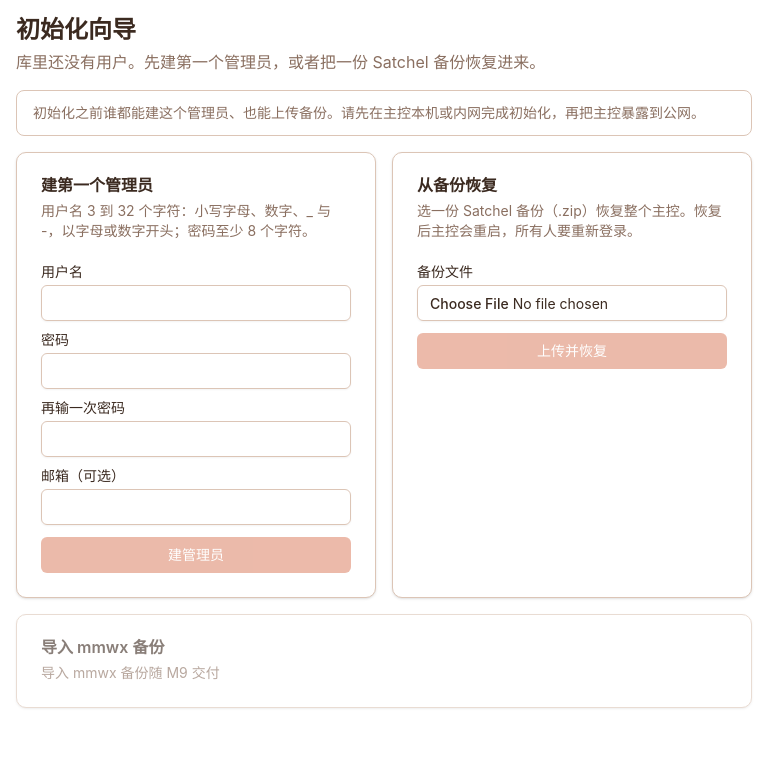
Scenario: 初始化向导 › 两次密码不一致时不提交
This screenshot has width=769, height=758.
In the field labelled "用户名": (196, 303) [41,285,351,321], type "admin"
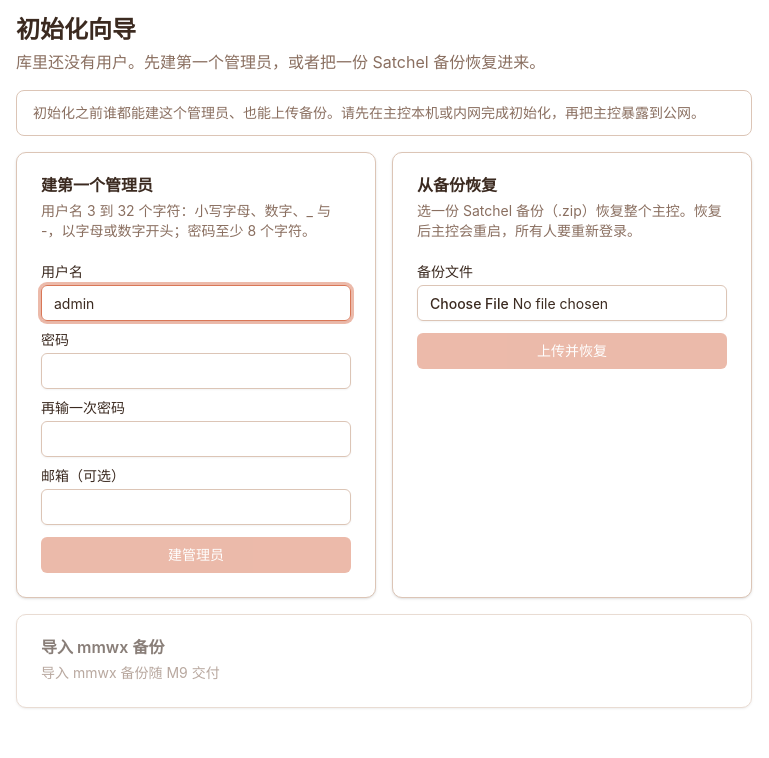
In the password field labelled "密码": (196, 371) [41,353,351,389], type "secret12"
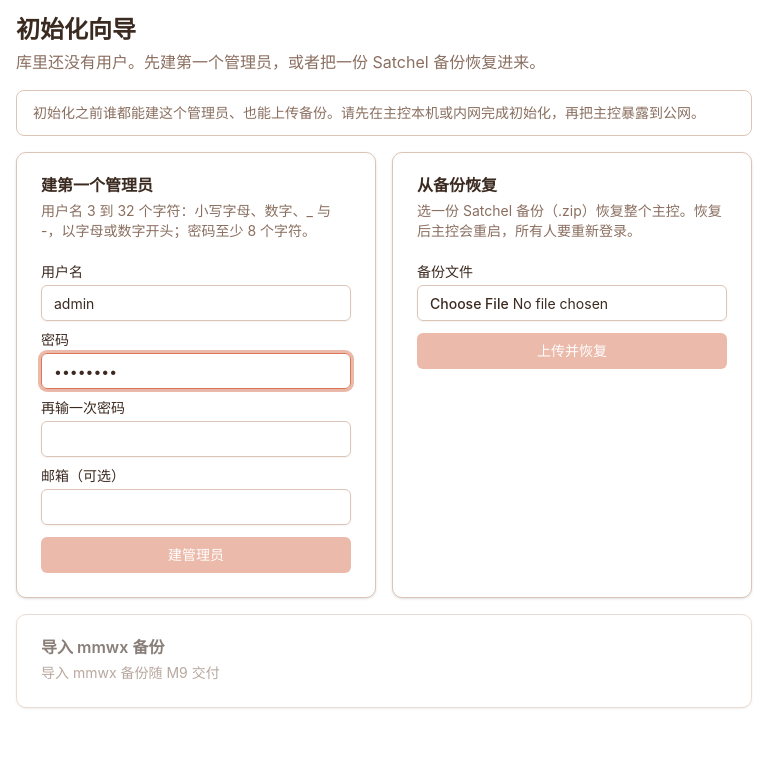
In the password field labelled "再输一次密码": (196, 439) [41,421,351,457], type "secret13"
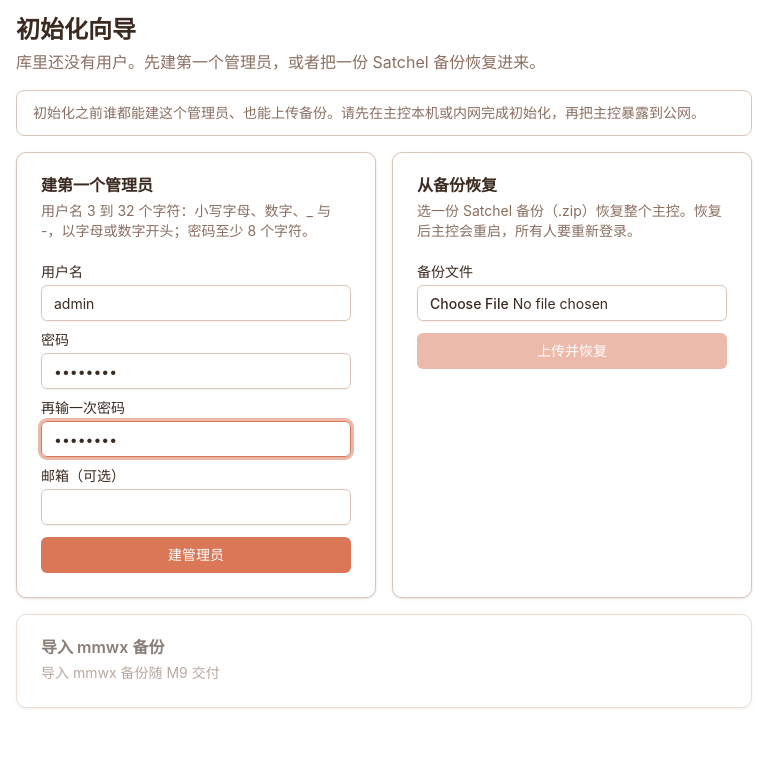
Click the button "建管理员": click(196, 555) [41,537,351,573]
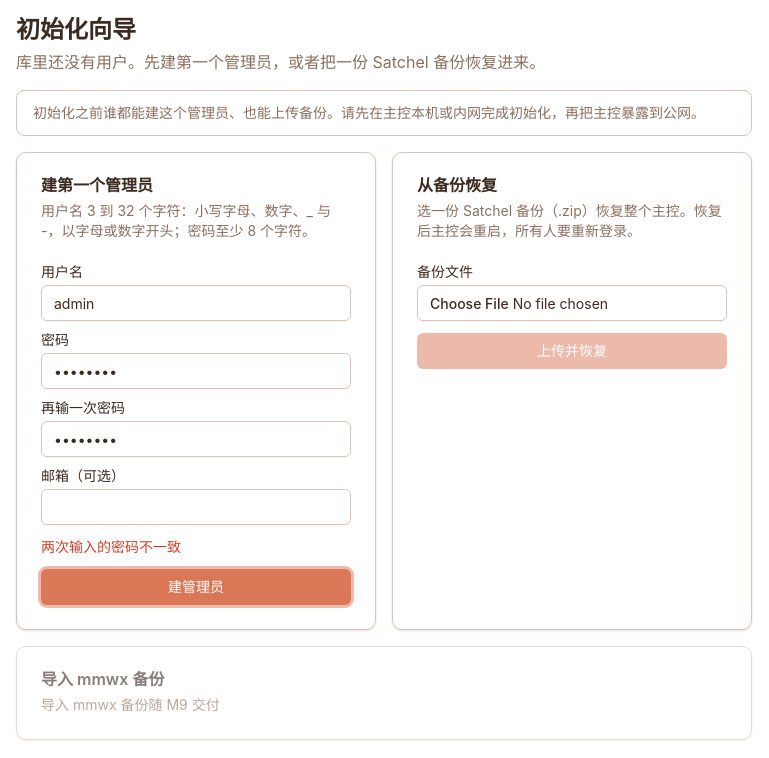
Expected: the text "导入 mmwx 备份随 M9 交付" is shown, [41,696,220,713]
Expected: the text "两次输入的密码不一致" is shown, [41,538,181,555]
